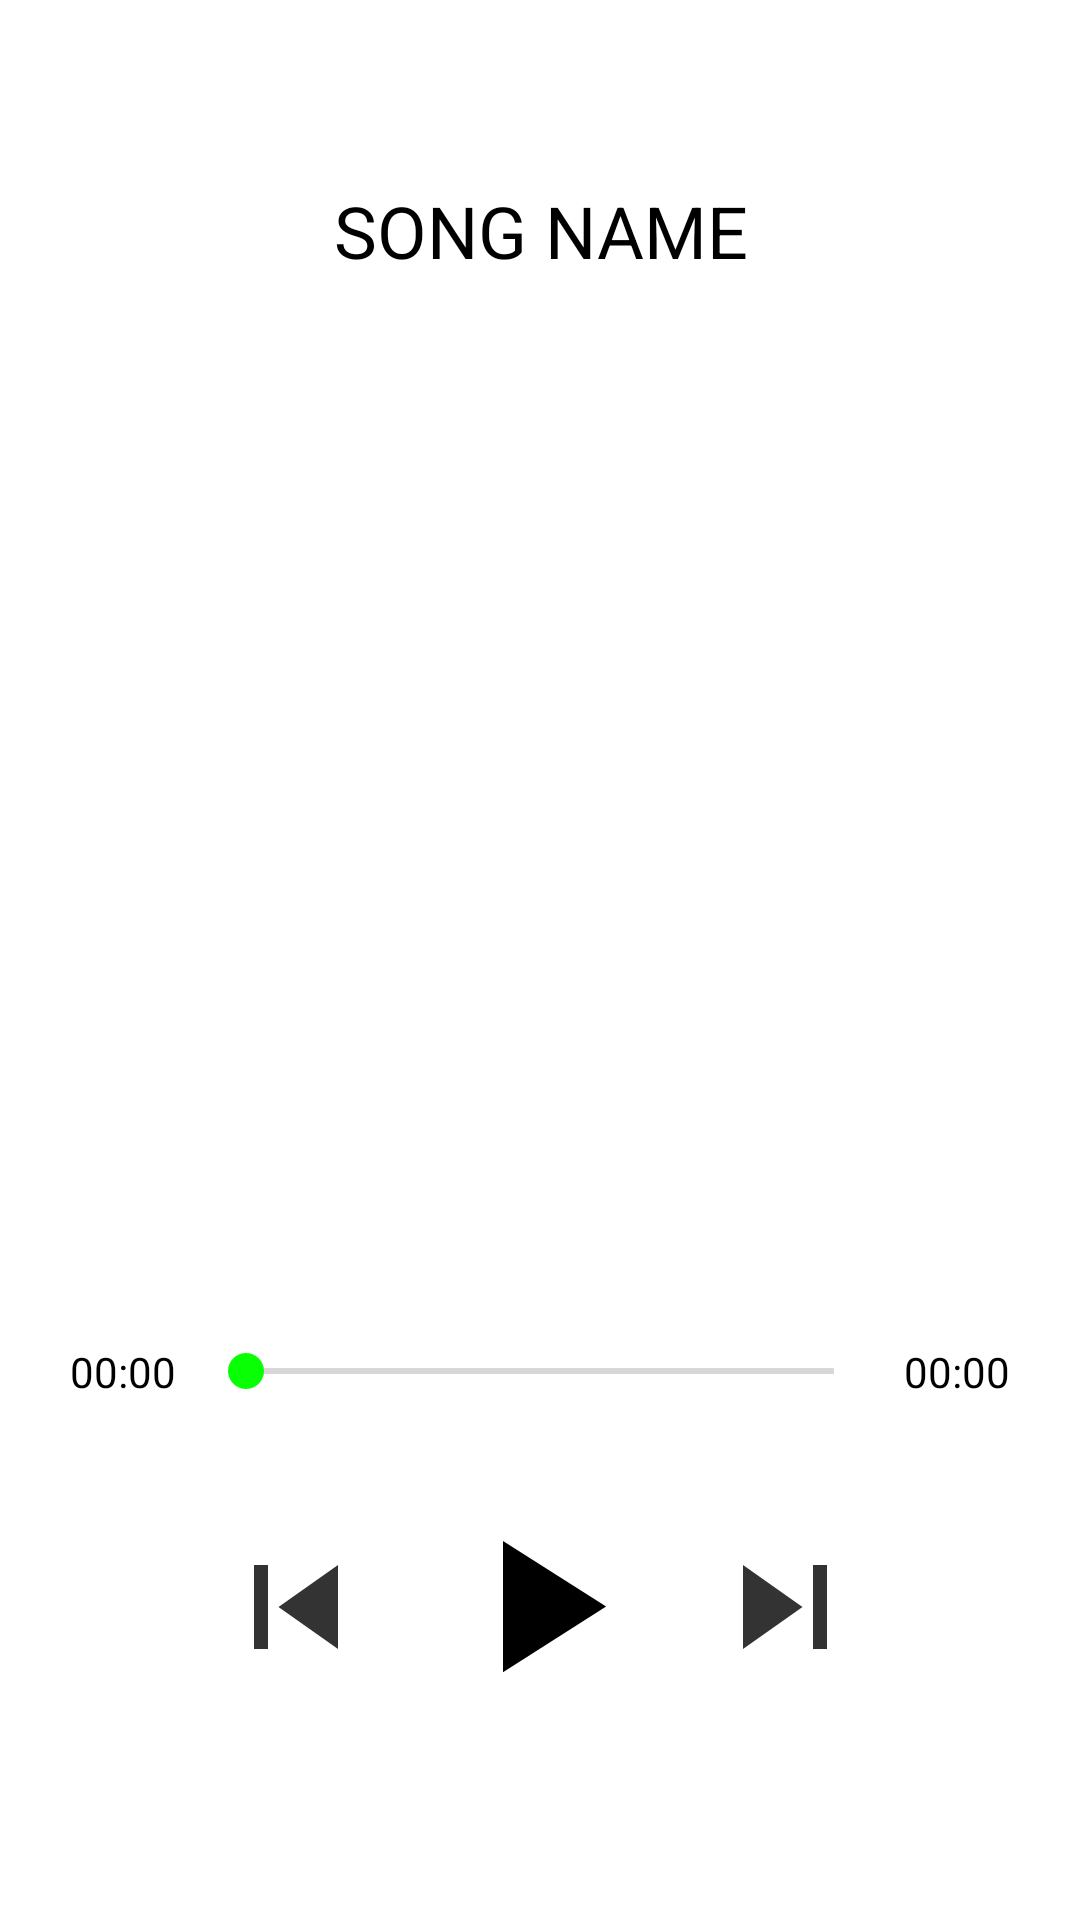

Screen size 1080w x 1920h. Icon name, then its center in pixels as [x,y]:
play: [554,1606]
skip: [785,1607]
skip previous: [296,1607]
